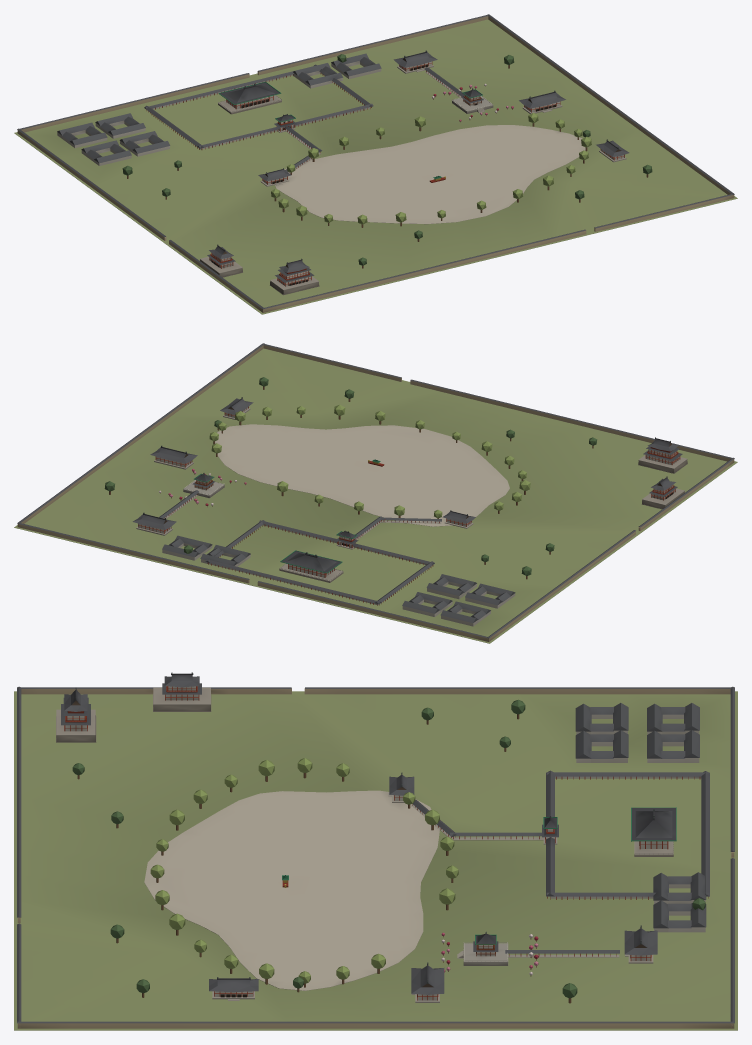
File: xingqing-palace.glb
3 renders of one model, top to bottom at view 1: azimuth 30°, elevation 25°; view 2: azimuth 150°, elevation 25°; view 3: azimuth 270°, elevation 25°, orthographic. The views are drawn at different scales.
Visible parts, largest first — view 1: p0_halls, p1_halls, p2_roofs; view 2: p0_halls, p1_halls, p2_roofs; view 3: p0_halls, p1_halls, p2_roofs.
Boxes of the visible parts, bbox=[...] form: p0_halls: bbox=[14, 14, 737, 314]; p1_halls: bbox=[57, 53, 626, 286]; p2_roofs: bbox=[122, 50, 652, 282]; p0_halls: bbox=[14, 343, 737, 643]; p1_halls: bbox=[136, 406, 680, 626]; p2_roofs: bbox=[104, 377, 682, 579]; p0_halls: bbox=[14, 686, 737, 1030]; p1_halls: bbox=[64, 686, 706, 1002]; p2_roofs: bbox=[61, 672, 705, 1003].
Bounding box in the file's own units: 620 × 32.06 × 560.
